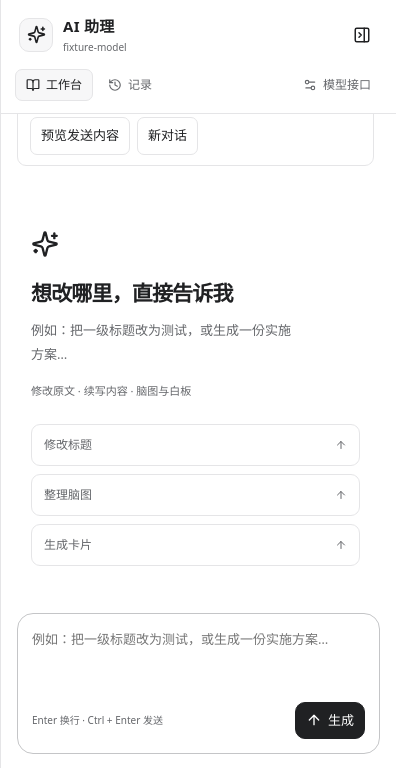
Test: AI workspace › previews the same full original used by an inferred edit request
(page scrolled)
Expected: the text "fixture-model" is shown, [63, 39, 127, 55]
Type "修改一级标题" into the text box named "向 AI 助理发送消息". click: (199, 661)
box: [32, 628, 365, 694]
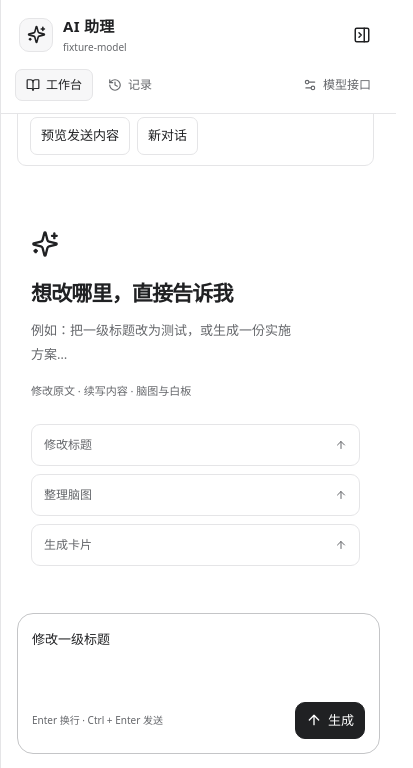
Click the button "预览发送内容". click: click(80, 136)
box: [30, 117, 130, 154]
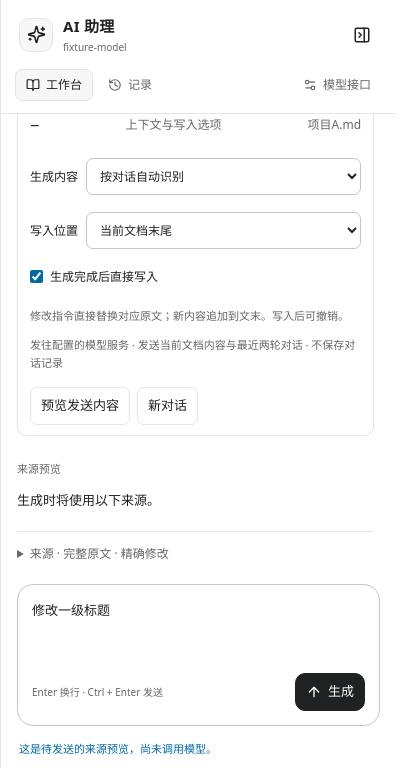
Expected: the heading "来源 · 完整原文 · 精确修改" is shown, [30, 545, 169, 562]
